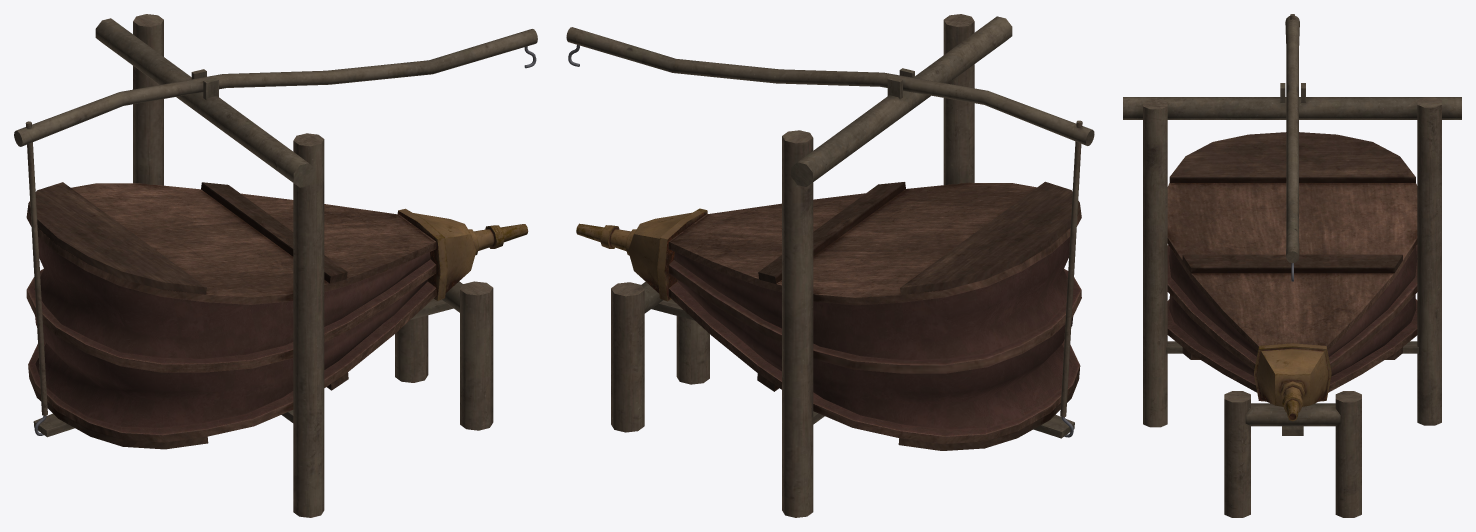
Rendered from Forge_Bellows.glb.
3 views of the same model, side by side, from view 1: azimuth 30°, elevation 25°; view 2: azimuth 150°, elevation 25°; view 3: azimuth 270°, elevation 25° (orthographic). The views are drawn at different scales.
Visible parts, largest first — view 1: Fuelle; view 2: Fuelle; view 3: Fuelle.
Part boxes in pixels (<box>): Fuelle: <box>14,14,537,517</box>; Fuelle: <box>566,14,1094,517</box>; Fuelle: <box>1123,14,1461,517</box>.
Bounding box in the file's own units: 181 × 129 × 120.
Materials: 1 (1 with a texture image).
